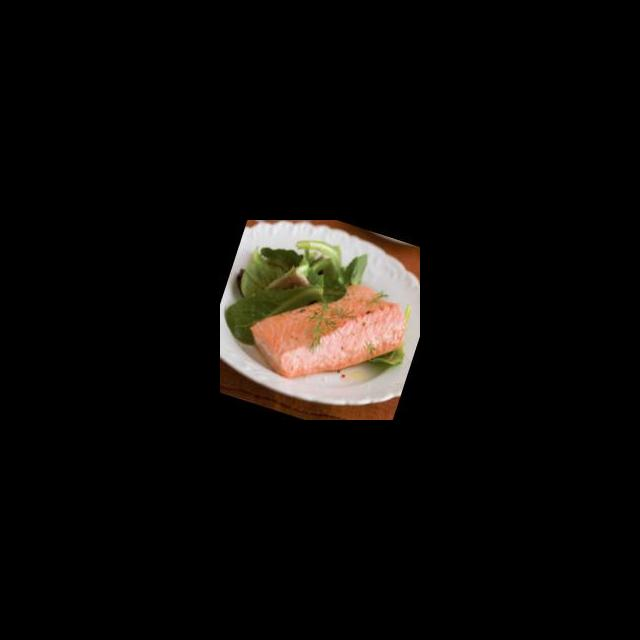ca hoi: (238, 252, 420, 412)
